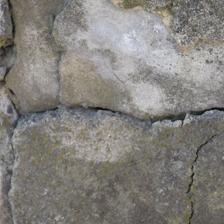Crack: (76, 52, 145, 164), (182, 0, 219, 76)
